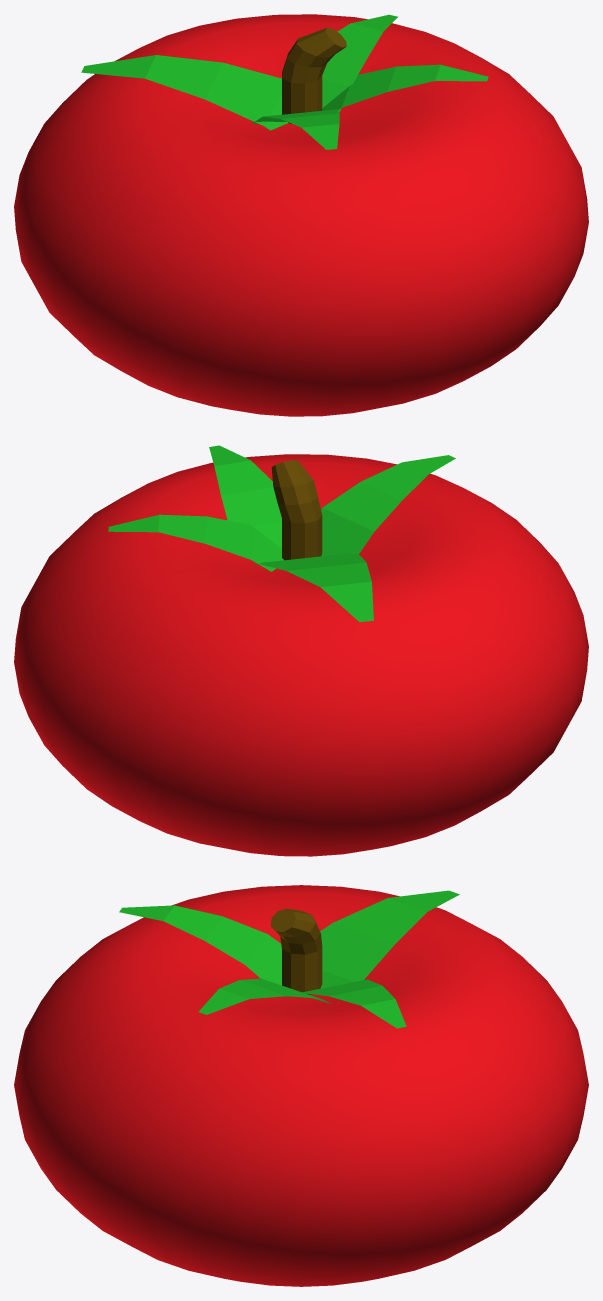
File: Bullet.glb
3 renders of one model, top to bottom at view 1: azimuth 30°, elevation 25°; view 2: azimuth 150°, elevation 25°; view 3: azimuth 270°, elevation 25°, orthographic.
Parts seen in each view (by area): view 1: Sphere; view 2: Sphere; view 3: Sphere.
Boxes of the visible parts, x1,y1,x2,y2 form: Sphere: (14, 14, 588, 416); Sphere: (14, 445, 588, 856); Sphere: (14, 885, 588, 1286).
Bounding box in the file's own units: 0.2226 × 0.1478 × 0.2226.
